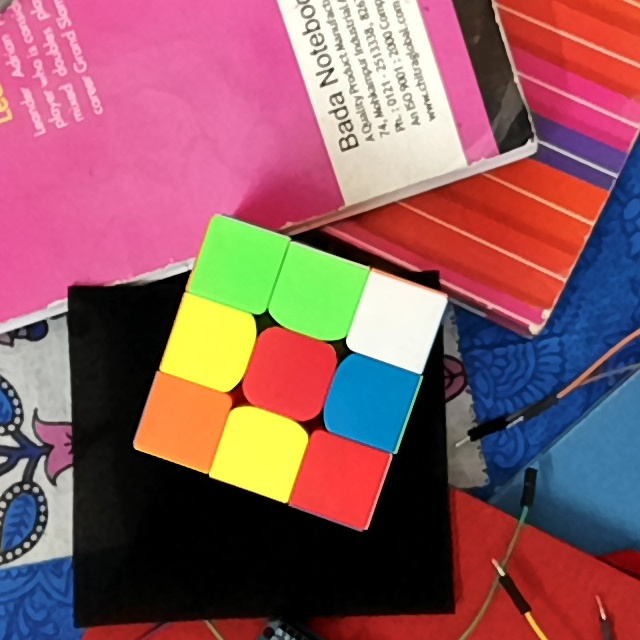tile: (259, 343, 321, 403), (341, 371, 401, 431), (309, 452, 370, 511), (286, 266, 346, 325), (154, 390, 212, 450), (209, 235, 269, 291), (368, 296, 425, 354), (231, 425, 287, 482), (181, 315, 236, 372)
